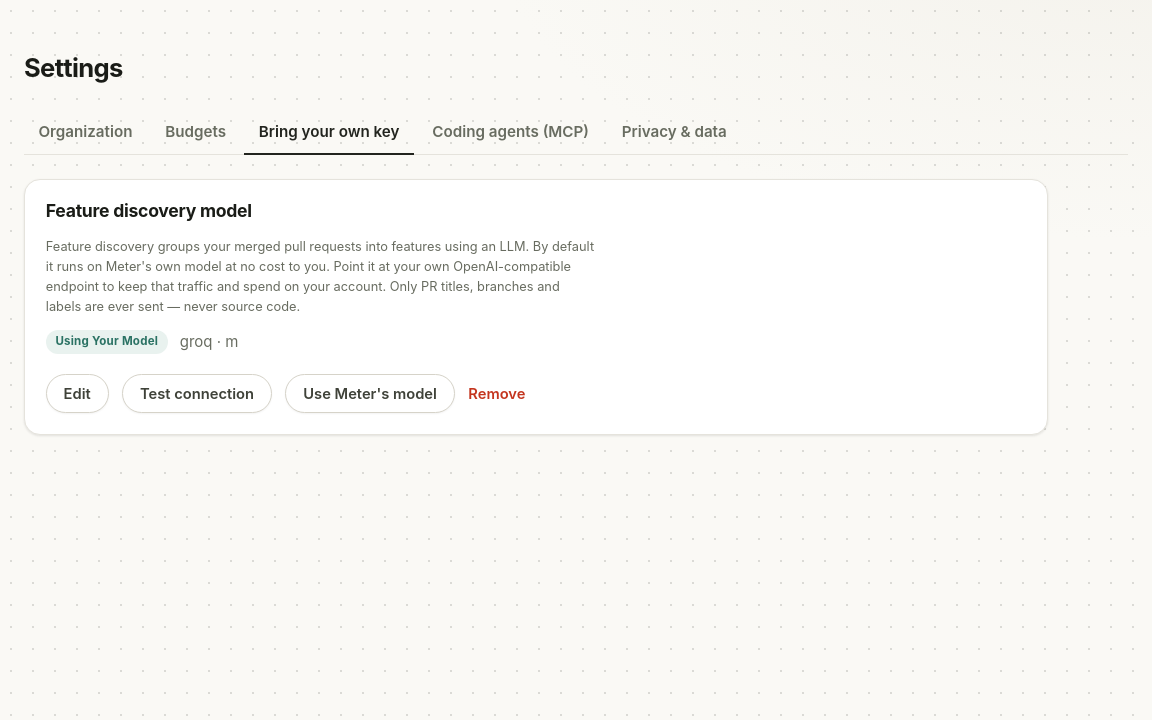
Scenario: Feature discovery model (BYOK) › can switch back to Meter's model without discarding the config
What coordinates should you click on to do the following:
click the button "Use Meter's model"
I would click on:
 (370, 394)
Its box is [285,374,455,413].
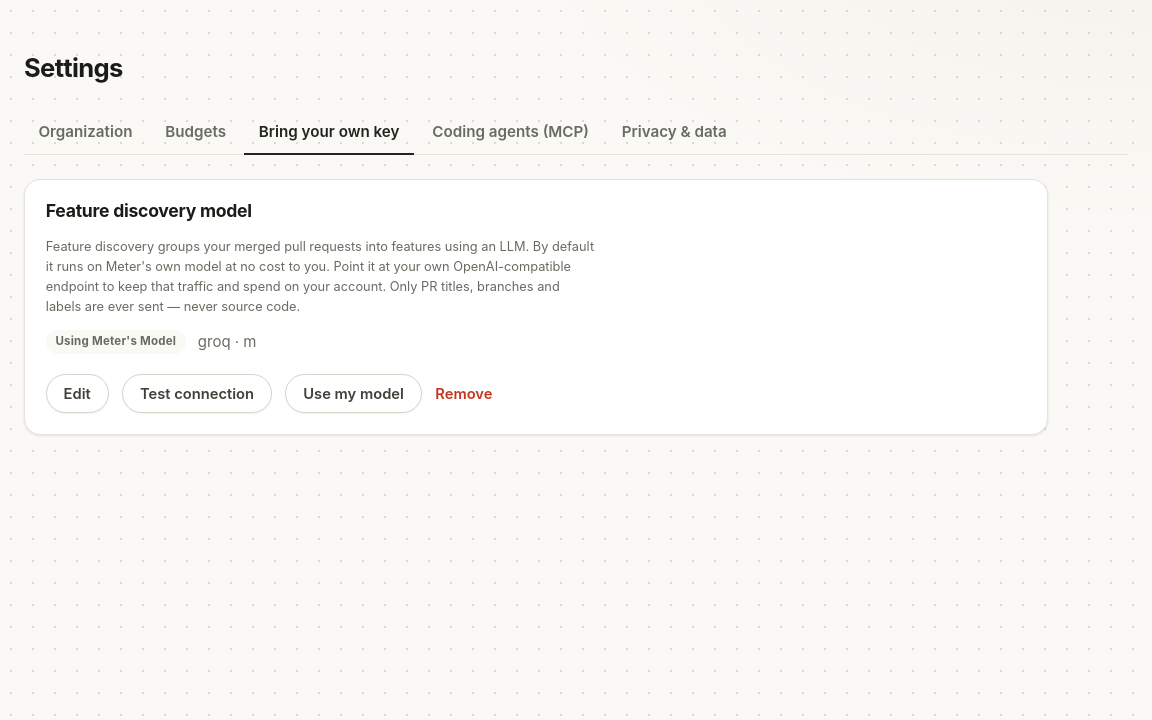
Check: the text "Using Meter's model" is shown, box [46,330,186,354]
Check: the button "Use my model" is shown, box [285,374,422,413]
